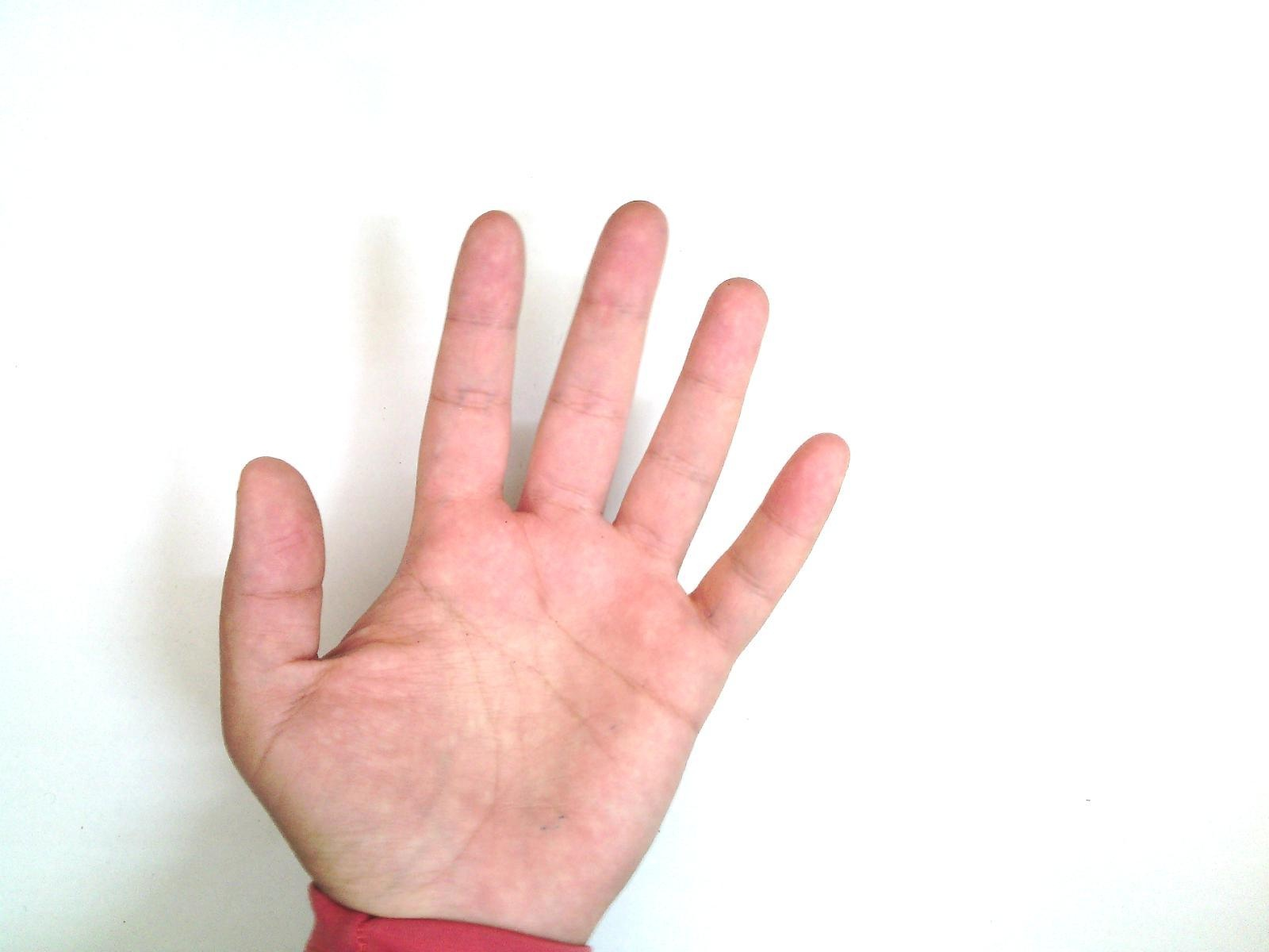open_palm: (216, 199, 853, 942)
